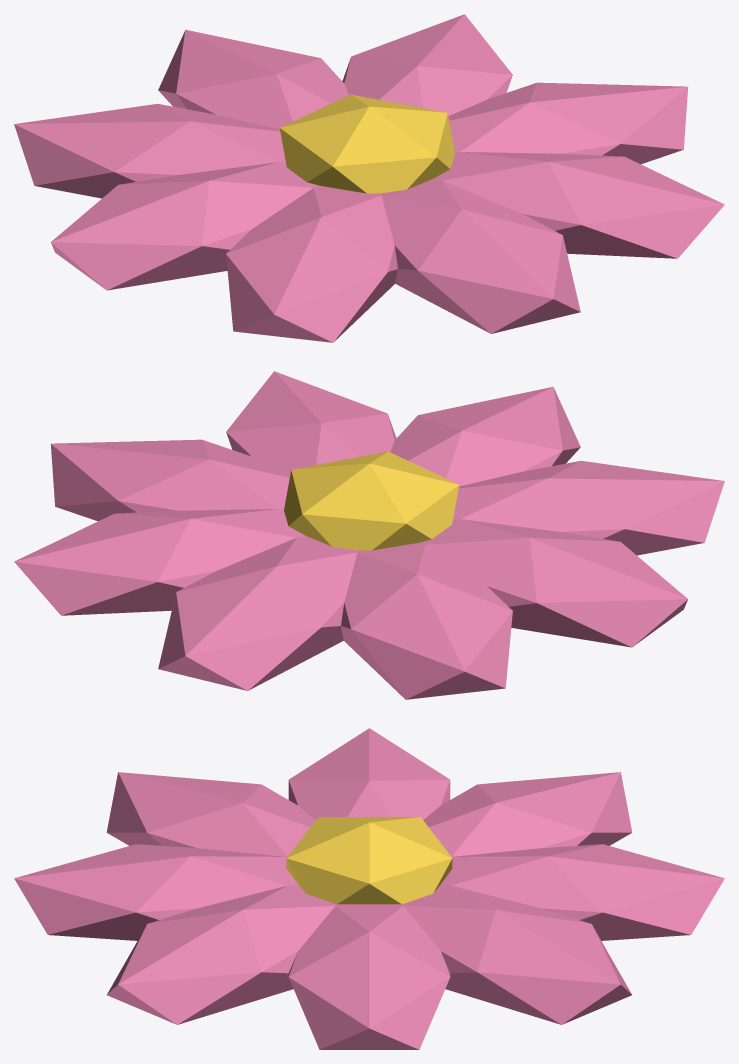
File: Lotus.fbx
The picture shows the model from 3 angles, top to bottom: view 1: azimuth 30°, elevation 25°; view 2: azimuth 150°, elevation 25°; view 3: azimuth 270°, elevation 25°; orthographic projection. The views are drawn at different scales.
Visible parts, largest first — view 1: LotusPetal_270, LotusPetal_225, LotusPetal_180, LotusPetal_315, LotusPetal_135, LotusPetal_0, LotusCenter, LotusPetal_90, LotusPetal_45; view 2: LotusPetal_90, LotusPetal_135, LotusPetal_180, LotusPetal_45, LotusPetal_225, LotusPetal_0, LotusCenter, LotusPetal_270, LotusPetal_315; view 3: LotusPetal_315, LotusPetal_45, LotusPetal_0, LotusPetal_270, LotusPetal_90, LotusPetal_135, LotusPetal_225, LotusCenter, LotusPetal_180.
Part boxes in pixels (x1=…): LotusPetal_270: x1=380, y1=179, x2=580, y2=333; LotusPetal_225: x1=226, y1=186, x2=397, y2=342; LotusPetal_180: x1=51, y1=162, x2=319, y2=290; LotusPetal_315: x1=432, y1=152, x2=724, y2=258; LotusPetal_135: x1=14, y1=103, x2=285, y2=198; LotusPetal_0: x1=448, y1=82, x2=688, y2=164; LotusCenter: x1=279, y1=94, x2=454, y2=193; LotusPetal_90: x1=158, y1=29, x2=348, y2=129; LotusPetal_45: x1=342, y1=14, x2=512, y2=115; LotusPetal_90: x1=158, y1=536, x2=358, y2=690; LotusPetal_135: x1=341, y1=543, x2=512, y2=699; LotusPetal_180: x1=419, y1=519, x2=687, y2=647; LotusPetal_45: x1=14, y1=509, x2=306, y2=615; LotusPetal_225: x1=453, y1=460, x2=724, y2=555; LotusPetal_0: x1=50, y1=439, x2=290, y2=521; LotusCenter: x1=284, y1=451, x2=459, y2=550; LotusPetal_270: x1=390, y1=386, x2=580, y2=486; LotusPetal_315: x1=226, y1=371, x2=396, y2=472; LotusPetal_315: x1=107, y1=885, x2=337, y2=1024; LotusPetal_45: x1=401, y1=885, x2=631, y2=1024; LotusPetal_0: x1=288, y1=904, x2=450, y2=1049; LotusPetal_270: x1=14, y1=844, x2=298, y2=940; LotusPetal_90: x1=440, y1=844, x2=724, y2=940; LotusPetal_135: x1=423, y1=772, x2=632, y2=856; LotusPetal_225: x1=106, y1=772, x2=315, y2=856; LotusCenter: x1=286, y1=817, x2=452, y2=904; LotusPetal_180: x1=288, y1=728, x2=450, y2=819.
Size of the model in its own units: 0.8747 by 0.154 by 0.8747.
